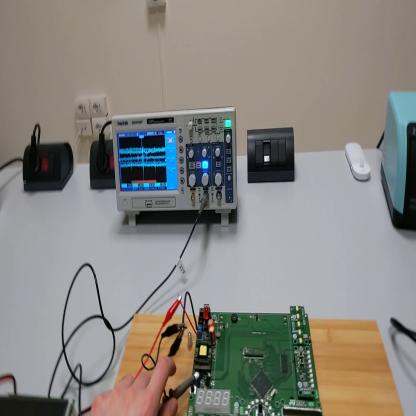hand: (92, 358, 179, 415)
low voltage board: (180, 278, 324, 414)
oscilloscope: (112, 105, 238, 229)
oscilloscope probe tip: (158, 377, 197, 416)
socket: (23, 136, 75, 195), (89, 140, 118, 192)
welder station: (380, 92, 416, 231)
working area: (114, 313, 404, 416)
